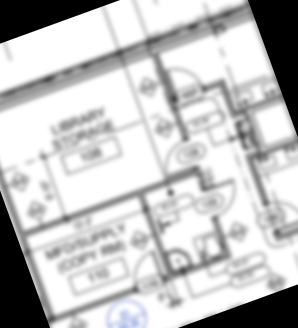door: (123, 247, 167, 296), (157, 135, 205, 178), (162, 57, 206, 101), (200, 178, 246, 220), (261, 190, 298, 235)
